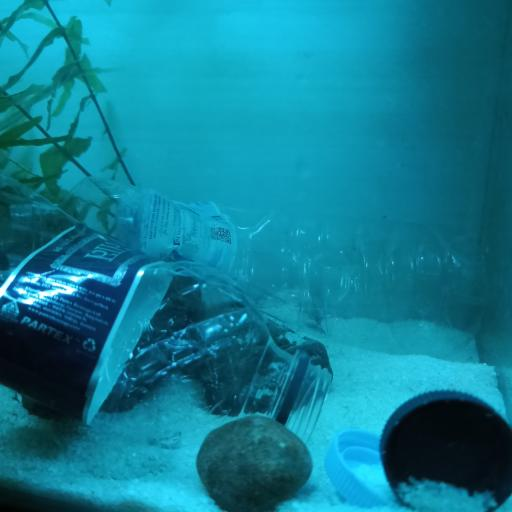bottle_cap: (379, 389, 511, 512), (325, 428, 391, 505)
plastic_bottle: (0, 164, 334, 441), (13, 175, 487, 366)
